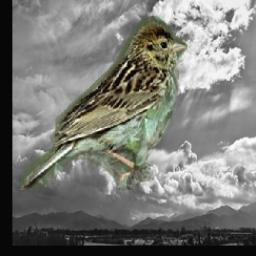Sparrow: (20, 16, 187, 190)
